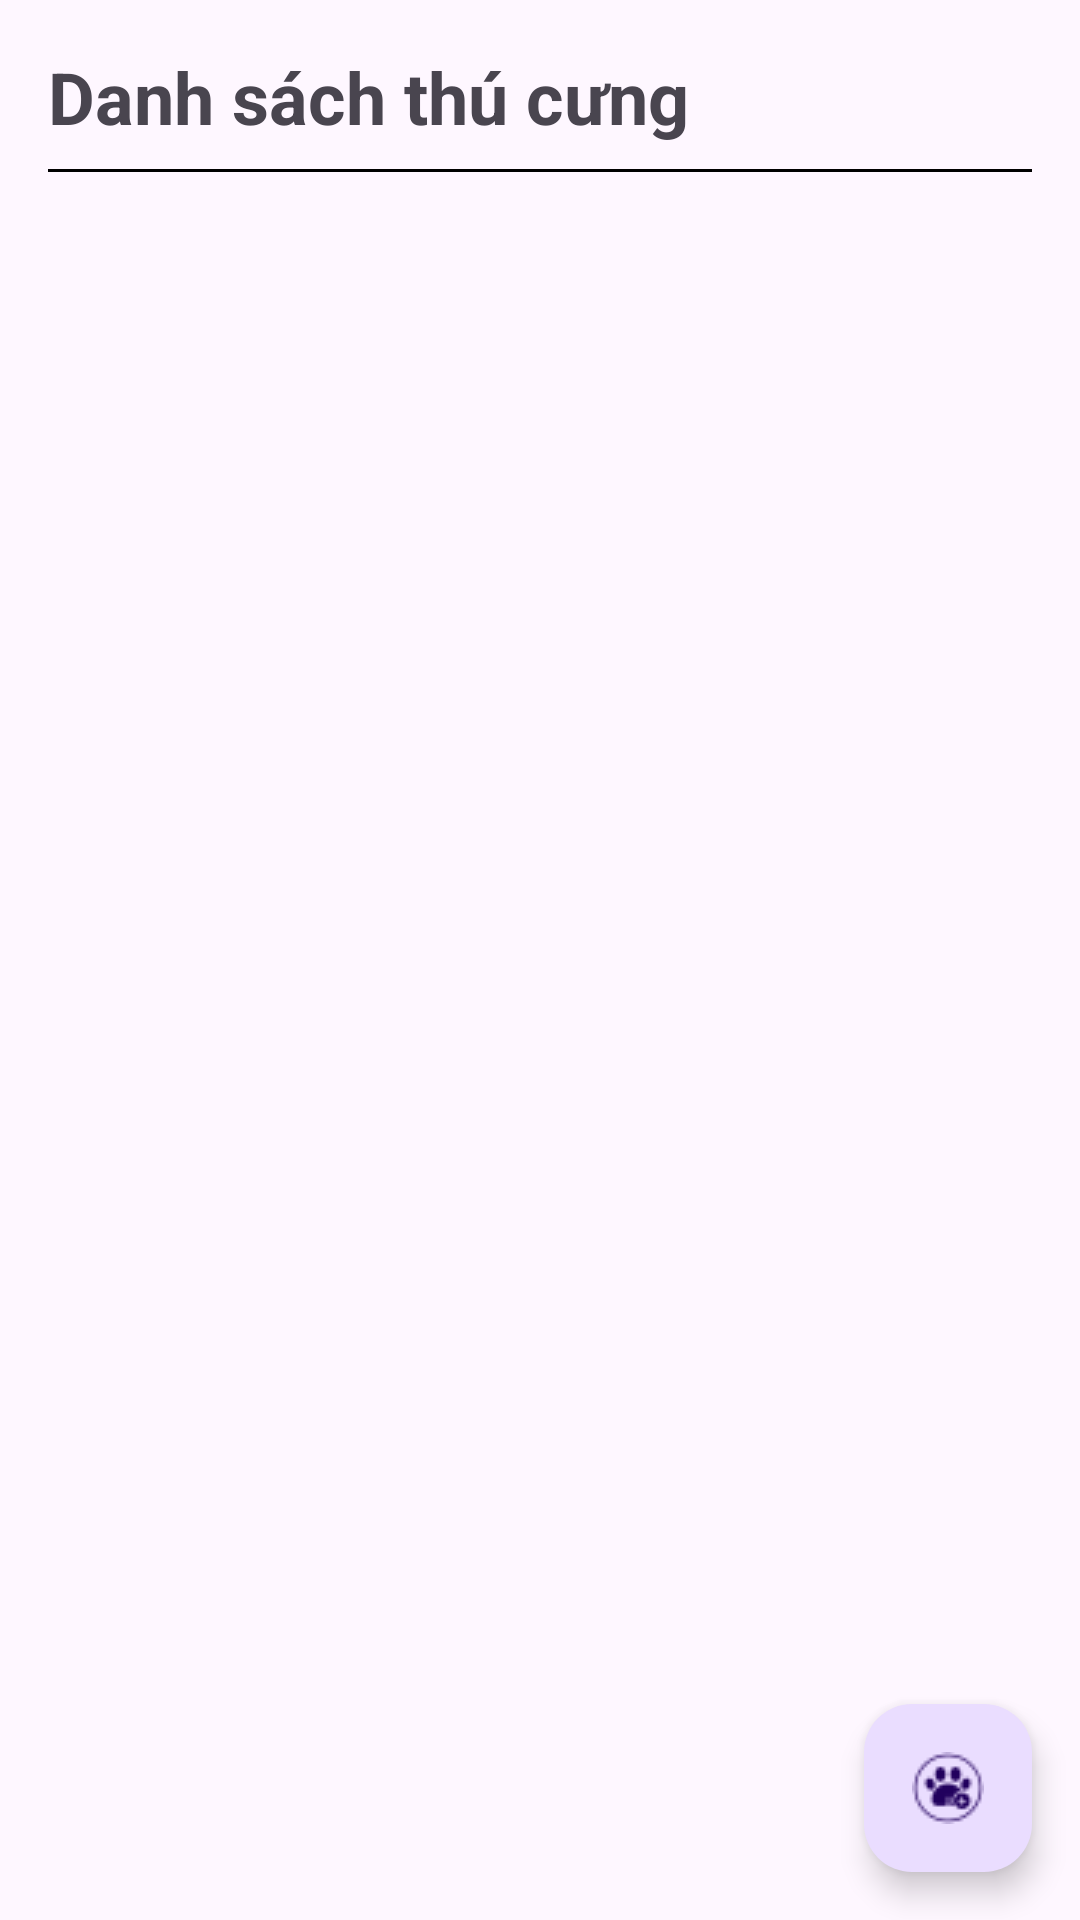

Locate icon controls on the screen. Image size 1080px×1920px, boxes as (x1, y1, x2, y2).
Add pet: (864, 1704, 1032, 1872)
